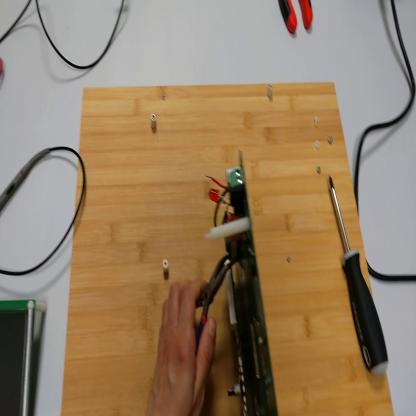hand: (146, 275, 218, 415)
low voltage board: (204, 148, 279, 416)
oscilloscope probe tip: (2, 144, 47, 212)
pliers: (196, 252, 229, 354), (280, 3, 315, 34)
screwdriver-: (329, 174, 392, 379)
working area: (61, 85, 395, 415)
